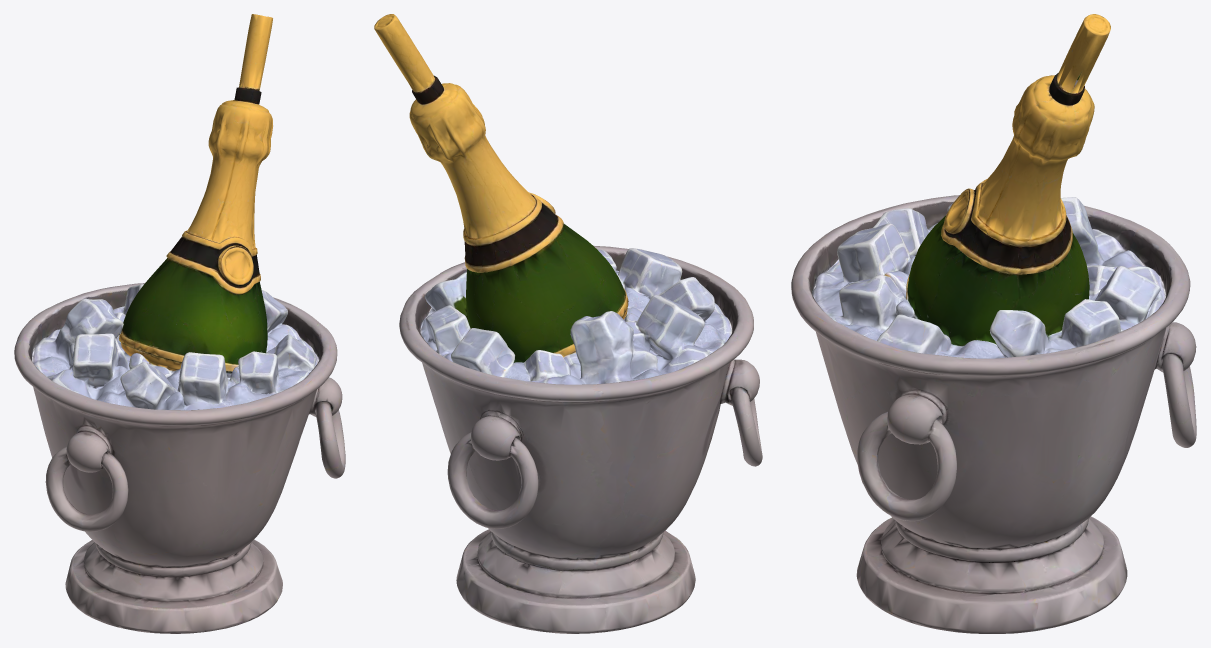
Rendered from champagne_bucket.glb.
The picture shows the model from 3 angles, left to right: view 1: azimuth 30°, elevation 25°; view 2: azimuth 150°, elevation 25°; view 3: azimuth 270°, elevation 25°; orthographic projection. The views are drawn at different scales.
Bounding box in the file's own units: 1.13 × 1.9 × 1.09.
1 material, 1 textured.
